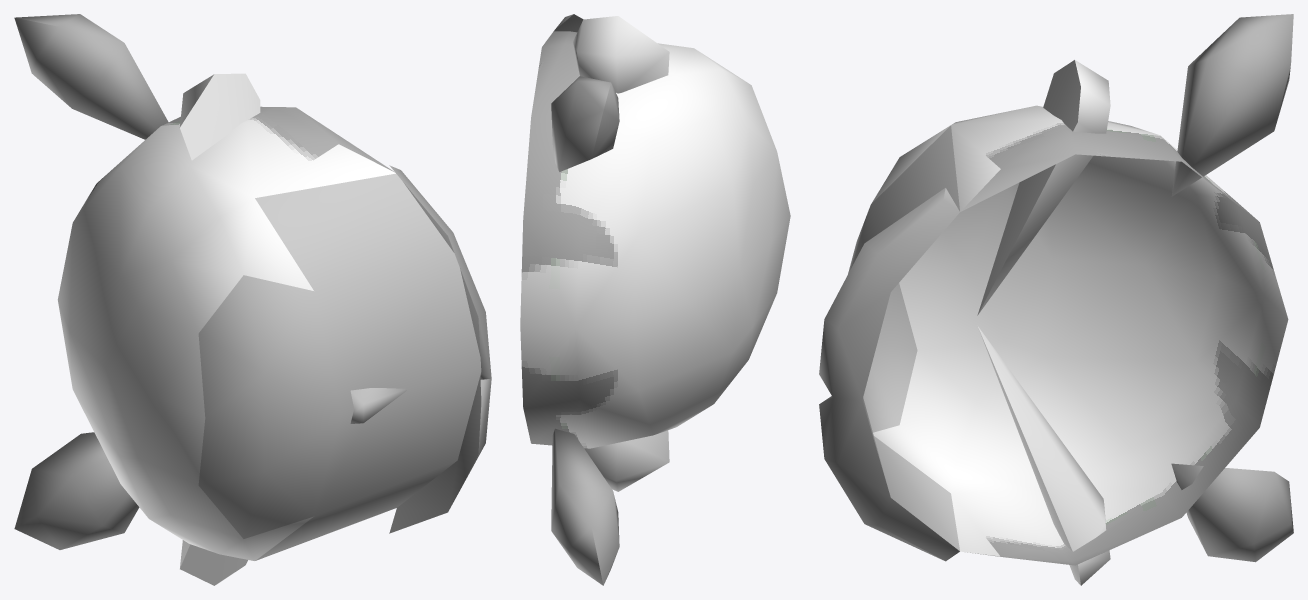
Rendered from girl14b.dae.
The picture shows the model from 3 angles, left to right: view 1: azimuth 30°, elevation 25°; view 2: azimuth 150°, elevation 25°; view 3: azimuth 270°, elevation 25°; orthographic projection. The views are drawn at different scales.
Parts seen in each view (by area): view 1: vsn_mesh_0_, vsn_mesh_1_, vsn_mesh_2_; view 2: vsn_mesh_0_; view 3: vsn_mesh_0_, vsn_mesh_1_, vsn_mesh_2_.
Boxes of the visible parts, x1=… form: vsn_mesh_0_: x1=14, y1=14, x2=491, y2=585; vsn_mesh_1_: x1=255, y1=173, x2=481, y2=560; vsn_mesh_2_: x1=198, y1=275, x2=341, y2=538; vsn_mesh_0_: x1=520, y1=14, x2=790, y2=585; vsn_mesh_0_: x1=819, y1=14, x2=1293, y2=585; vsn_mesh_1_: x1=852, y1=125, x2=959, y2=550; vsn_mesh_2_: x1=848, y1=208, x2=917, y2=432.
Bounding box in the file's own units: 15.5 × 27.31 × 22.13.
